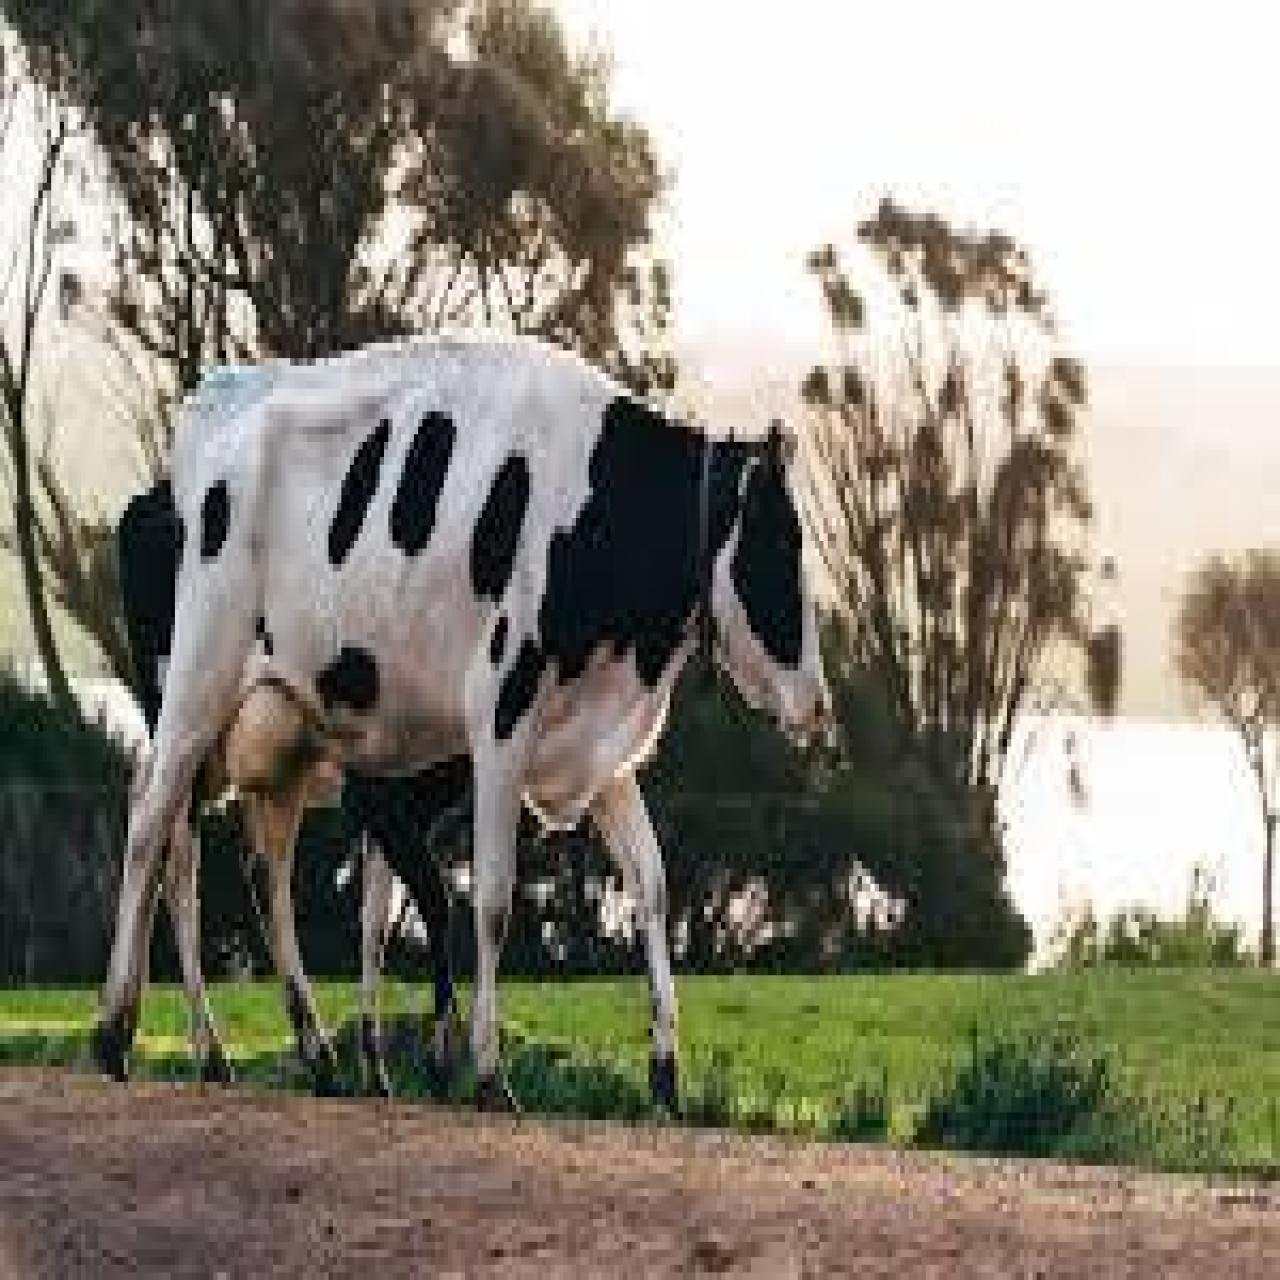cow: (107, 339, 832, 1116)
